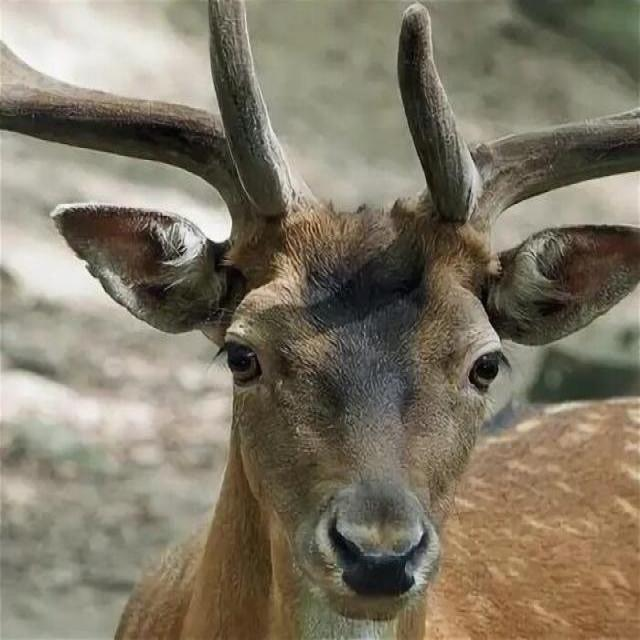deer: (61, 60, 640, 639)
